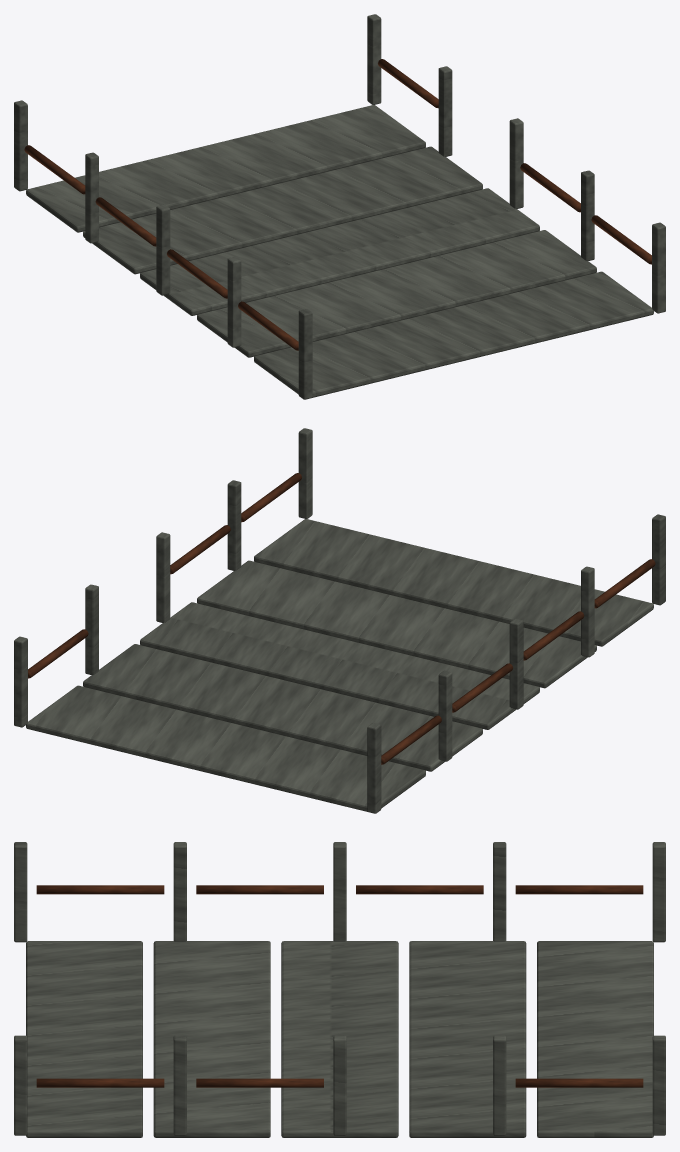
Rendered from bridge.glb.
The picture shows the model from 3 angles, top to bottom: view 1: azimuth 30°, elevation 25°; view 2: azimuth 150°, elevation 25°; view 3: azimuth 270°, elevation 25°; orthographic projection. The views are drawn at different scales.
Visible parts, largest first — view 1: Cracked_deck, Cracked_deck.004, Cracked_deck.003, Cracked_deck.002, Cracked_deck.001, Damaged_bridge_post, Damaged_bridge_post.008, Damaged_bridge_post.009, Damaged_bridge_post.001, Damaged_bridge_post.002, Damaged_bridge_post.007, Damaged_bridge_post.005 (+10 smaller); view 2: Cracked_deck.004, Cracked_deck, Cracked_deck.001, Cracked_deck.002, Cracked_deck.003, Damaged_bridge_post.004, Damaged_bridge_post.007, Damaged_bridge_post.005, Damaged_bridge_post.002, Damaged_bridge_post.003, Damaged_bridge_post.006, Damaged_bridge_post.009 (+10 smaller); view 3: Cracked_deck, Cracked_deck.004, Cracked_deck.003, Cracked_deck.002, Cracked_deck.001, Damaged_bridge_post.005, Damaged_bridge_post.006, Damaged_bridge_post.007, Damaged_bridge_post.008, Damaged_bridge_post.009, Damaged_bridge_post, Damaged_bridge_post.004 (+10 smaller).
Part boxes in pixels (box(x1,y1,x2,y2)): Cracked_deck: box(254, 271, 653, 397); Cracked_deck.004: box(26, 105, 425, 232); Cracked_deck.003: box(83, 146, 482, 274); Cracked_deck.002: box(140, 188, 539, 315); Cracked_deck.001: box(197, 230, 596, 357); Damaged_bridge_post: box(298, 309, 312, 399); Damaged_bridge_post.008: box(438, 66, 452, 156); Damaged_bridge_post.009: box(367, 14, 381, 104); Damaged_bridge_post.001: box(227, 256, 241, 347); Damaged_bridge_post.002: box(156, 204, 170, 295); Damaged_bridge_post.007: box(509, 118, 523, 208); Damaged_bridge_post.005: box(652, 222, 665, 313); Cracked_deck.004: box(26, 685, 425, 811); Cracked_deck: box(254, 519, 653, 646); Cracked_deck.001: box(197, 560, 596, 688); Cracked_deck.002: box(140, 602, 539, 729); Cracked_deck.003: box(83, 644, 482, 771); Damaged_bridge_post.004: box(367, 723, 381, 813); Damaged_bridge_post.007: box(156, 532, 170, 622); Damaged_bridge_post.005: box(298, 428, 312, 518); Damaged_bridge_post.002: box(509, 618, 523, 709); Damaged_bridge_post.003: box(438, 670, 452, 761); Damaged_bridge_post.006: box(227, 480, 241, 570); Damaged_bridge_post.009: box(14, 636, 27, 727); Cracked_deck: box(26, 941, 142, 1137); Cracked_deck.004: box(537, 941, 653, 1137); Cracked_deck.003: box(409, 941, 526, 1137); Cracked_deck.002: box(281, 941, 398, 1137); Cracked_deck.001: box(153, 941, 270, 1137); Damaged_bridge_post.005: box(14, 1035, 27, 1135); Damaged_bridge_post.006: box(173, 1035, 186, 1135); Damaged_bridge_post.007: box(333, 1035, 346, 1135); Damaged_bridge_post.008: box(493, 1035, 506, 1135); Damaged_bridge_post.009: box(652, 1035, 665, 1135); Damaged_bridge_post: box(14, 842, 27, 942); Damaged_bridge_post.004: box(652, 842, 665, 942).
Size of the model in its own units: 8.82 by 2.12 by 12.25.
Materials: 2 (2 with a texture image).
